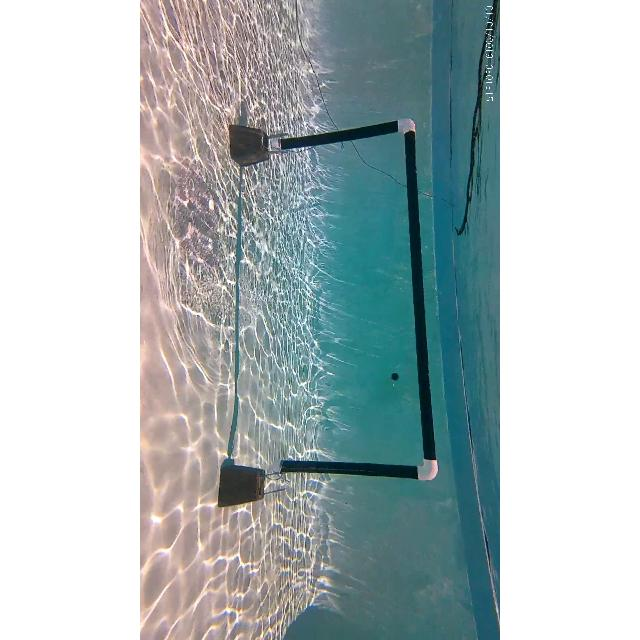prequal gate: (272, 117, 440, 481)
prequal gate leg l: (264, 116, 422, 162)
prequal gate leg r: (256, 450, 450, 492)
